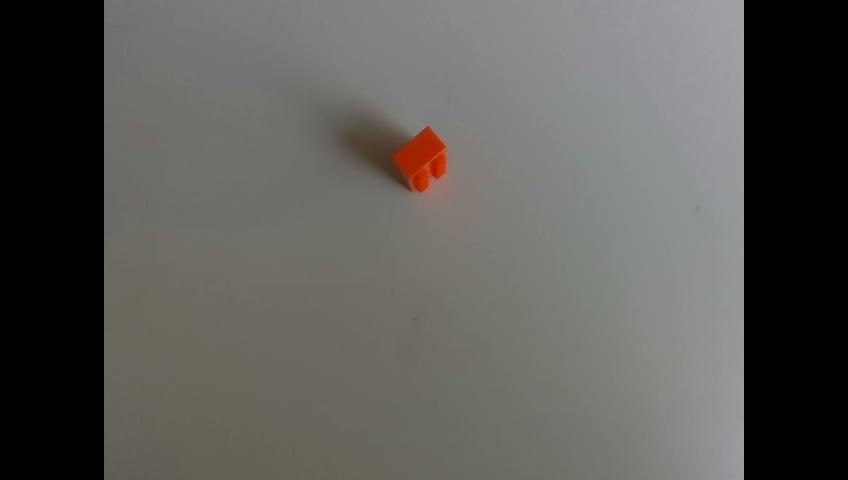4x2_orange: (393, 125, 447, 196)
